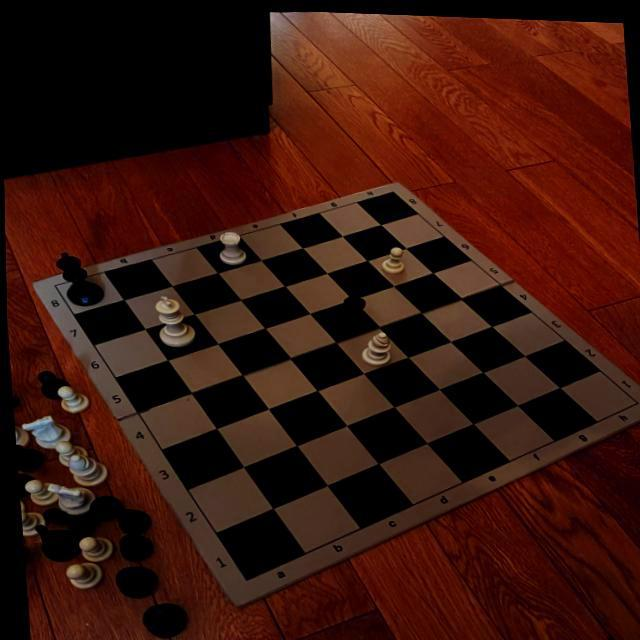chess-table-corners: (622, 389, 640, 404), (386, 187, 400, 196), (49, 283, 64, 291), (239, 574, 251, 584)
